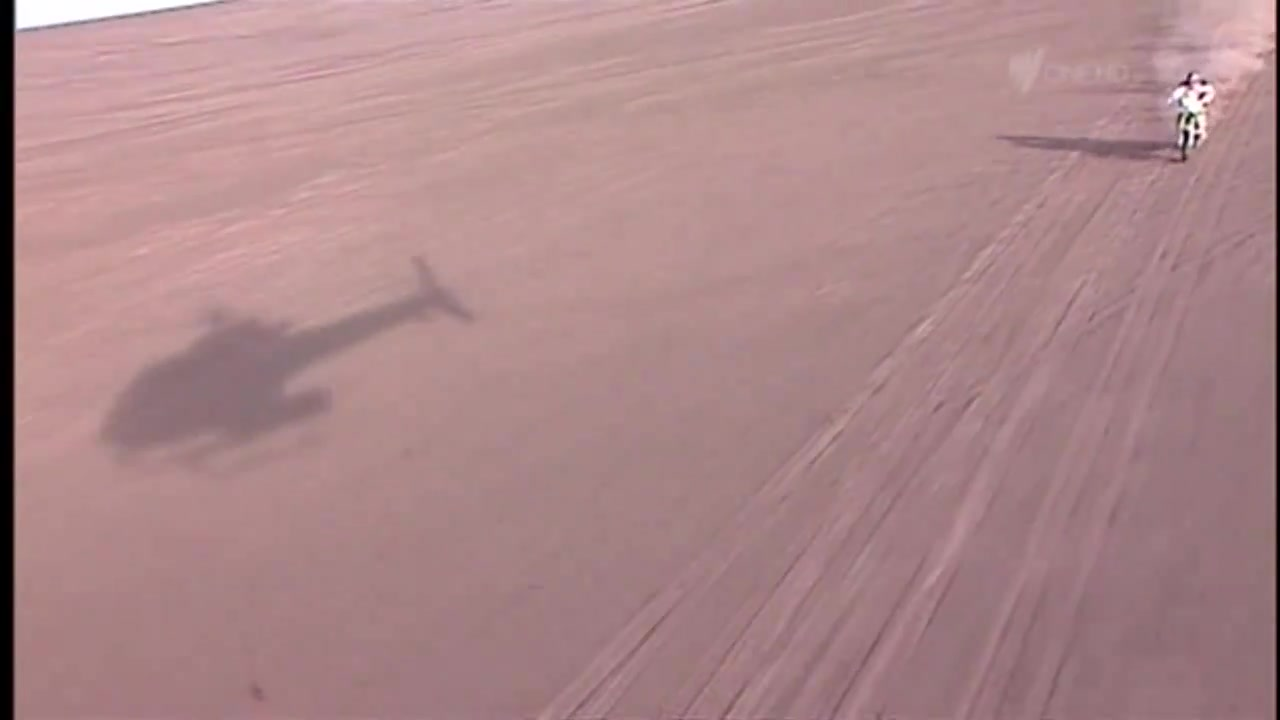motorbike: (1172, 97, 1213, 155)
